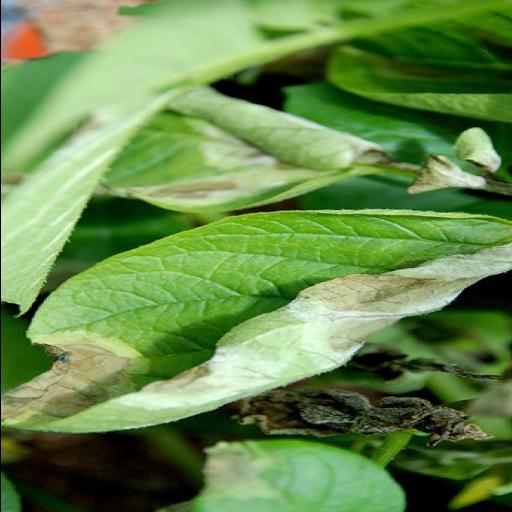disease_tomato: (0, 205, 510, 440)
